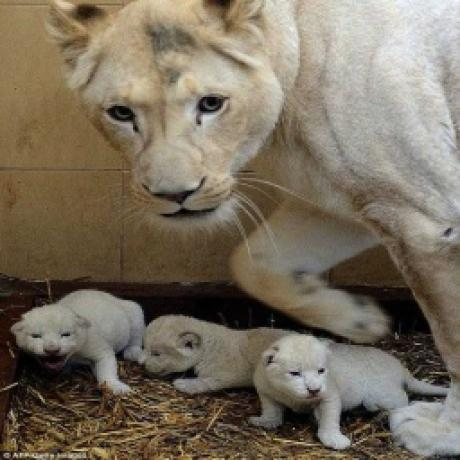Lion: (43, 0, 460, 460), (249, 333, 449, 450), (10, 286, 144, 392), (139, 311, 285, 392)
